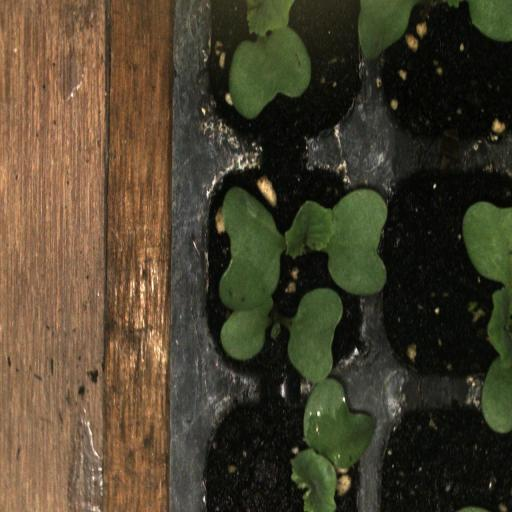seedling: (376, 158, 512, 388), (190, 0, 375, 158)
twoseedling: (190, 156, 375, 386)
